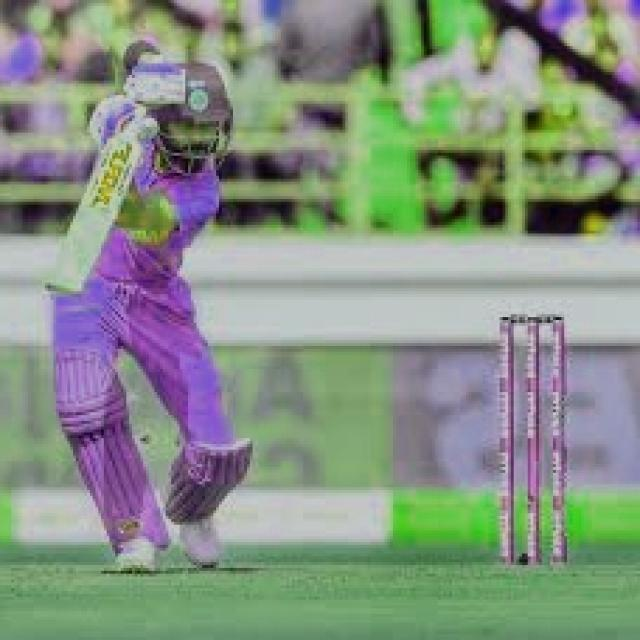bat: (38, 141, 152, 292)
toe: (25, 278, 87, 298)
